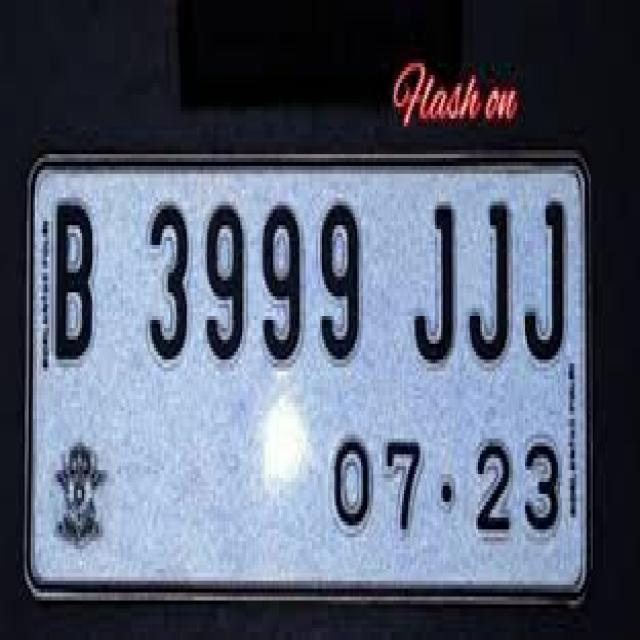license-plat: (16, 135, 594, 612)
